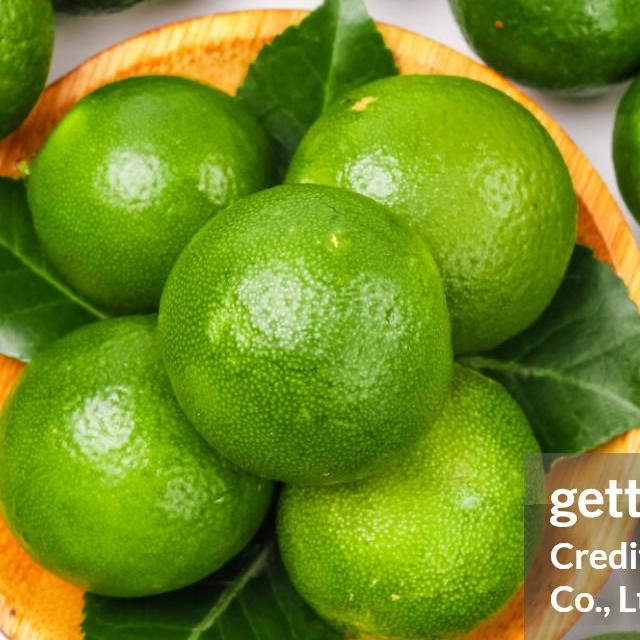lime: (135, 184, 466, 502), (286, 76, 589, 366)
